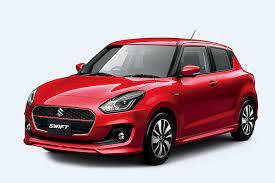Hatchback: (23, 34, 258, 164)
